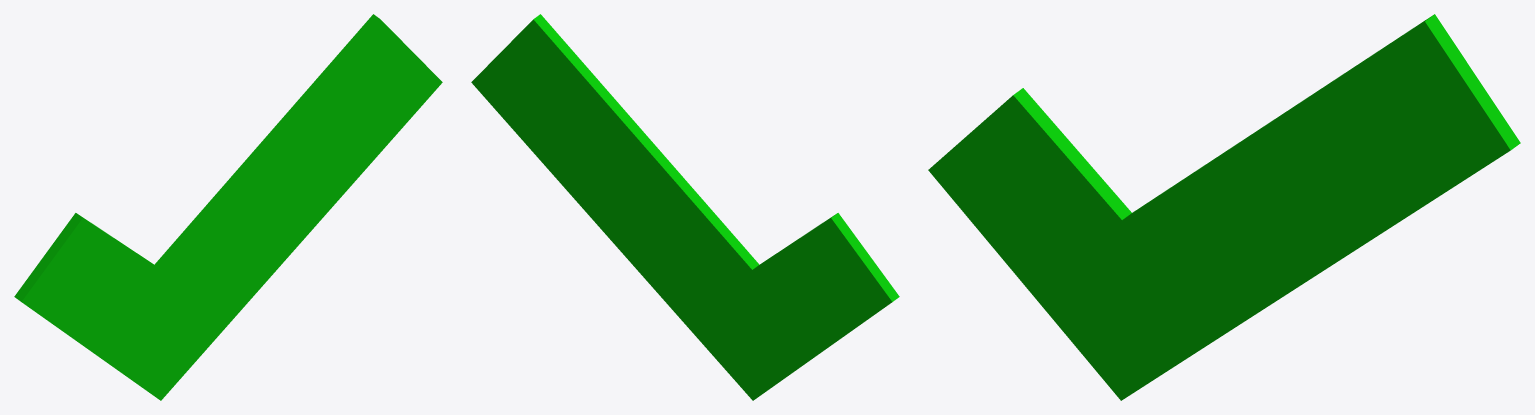
File: victory.obj
3 renders of one model, left to right at view 1: azimuth 30°, elevation 25°; view 2: azimuth 150°, elevation 25°; view 3: azimuth 330°, elevation 25°, orthographic. The views are drawn at different scales.
Parts seen in each view (by area): view 1: Victory_Cube.001; view 2: Victory_Cube.001; view 3: Victory_Cube.001.
Part boxes in pixels (x1,y1,x2,y2): Victory_Cube.001: (14, 14, 442, 400); Victory_Cube.001: (471, 14, 899, 400); Victory_Cube.001: (928, 14, 1520, 400).
Bounding box in the file's own units: 213 × 159 × 6.36.
